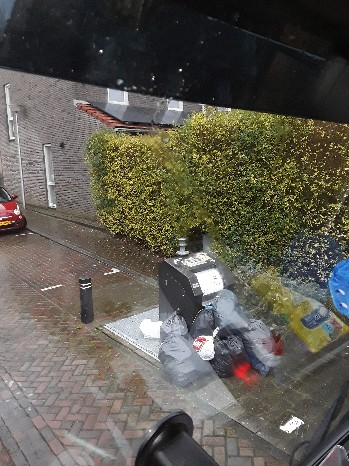Container: (154, 244, 229, 313)
Rest: (214, 291, 259, 335), (201, 328, 228, 371), (239, 317, 272, 350), (161, 330, 183, 368), (149, 307, 187, 329)
